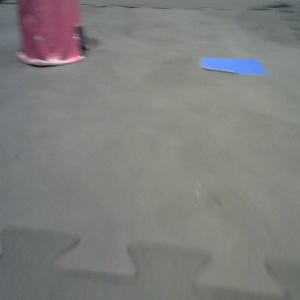middle: (15, 1, 90, 66)
